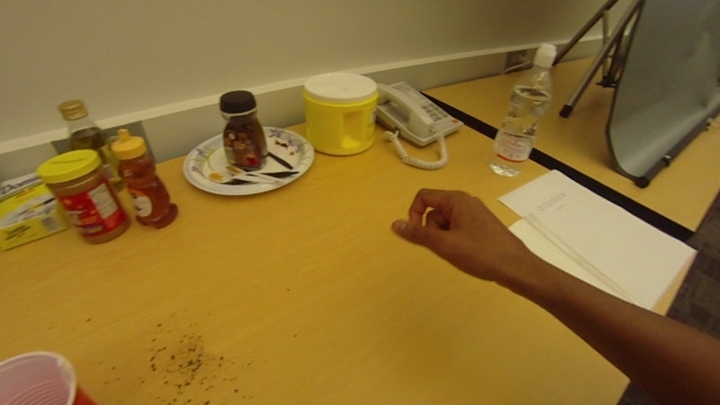hand: (383, 179, 518, 274)
